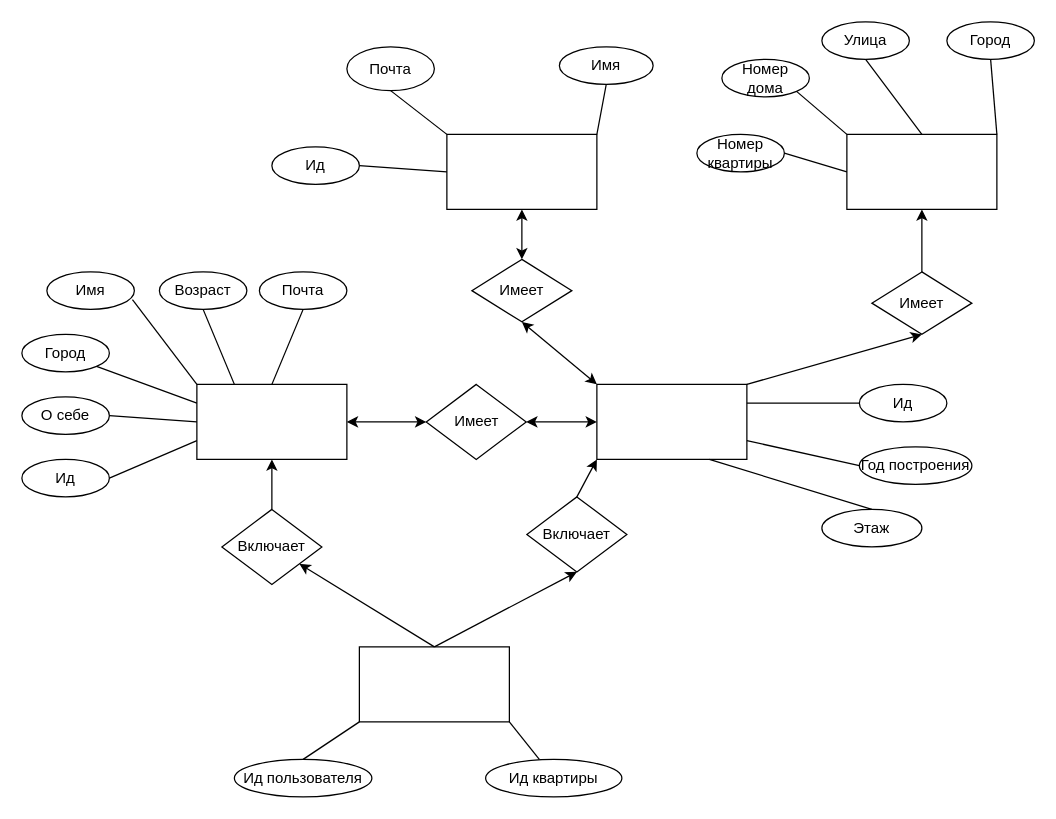
Image size: 1056x819. Some labels were removed from this diagram. Here are the shapes that lost their labels. From the top down, the centre of each, then its label:
At [521,171]: "Владельца".
At [921,171]: "Адрес".
At [271,421]: "Пользователь (жильцы)".
At [671,421]: "Квартира".
At [433,684]: "Заявка".
